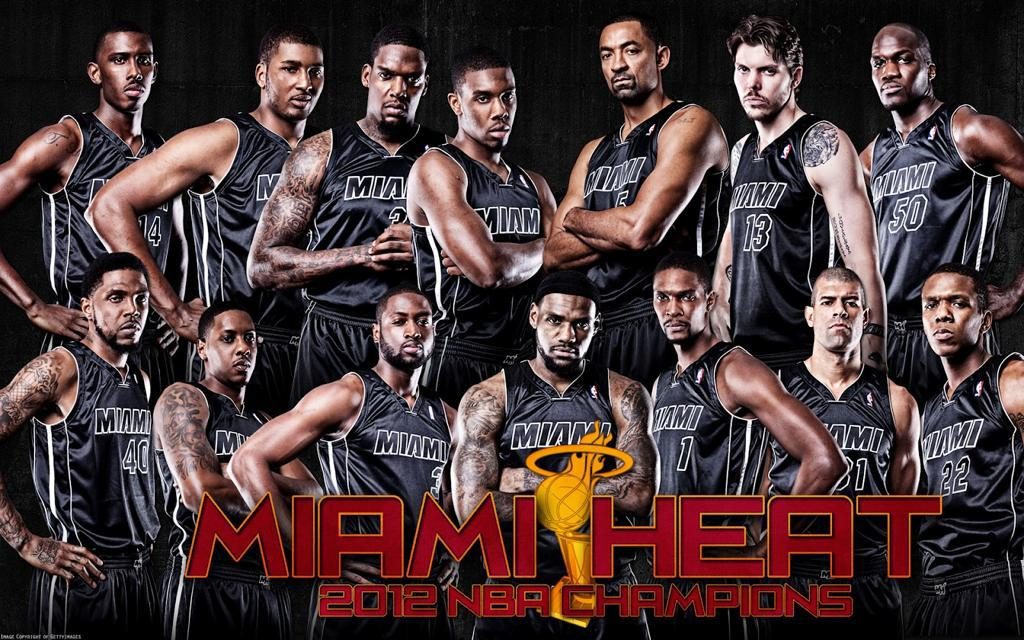face: (922, 279, 983, 355), (370, 55, 428, 129), (91, 277, 150, 346), (873, 34, 928, 107), (600, 29, 659, 97), (537, 300, 595, 369), (735, 49, 792, 119), (461, 77, 517, 146), (269, 50, 325, 118), (100, 39, 153, 110), (654, 277, 708, 341), (814, 284, 865, 350), (381, 302, 434, 365), (210, 315, 256, 384)
